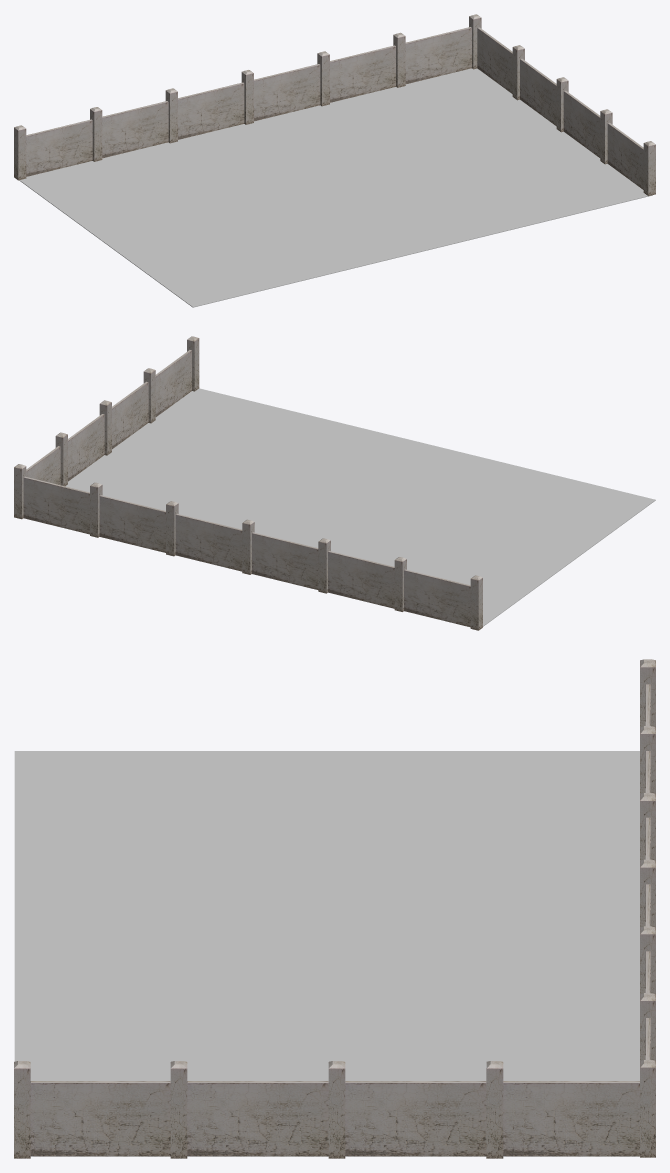
Rendered from Exterior.FBX.
3 renders of one model, top to bottom at view 1: azimuth 30°, elevation 25°; view 2: azimuth 150°, elevation 25°; view 3: azimuth 270°, elevation 25°, orthographic. The views are drawn at different scales.
Visible parts, largest first — view 1: Exterior; view 2: Exterior; view 3: Exterior.
Boxes of the visible parts, box(x1,y1,x2,y2) form: Exterior: box(14, 14, 655, 307); Exterior: box(14, 336, 655, 630); Exterior: box(14, 659, 655, 1158).
Bounding box in the file's own units: 2433 × 260 × 1617.
